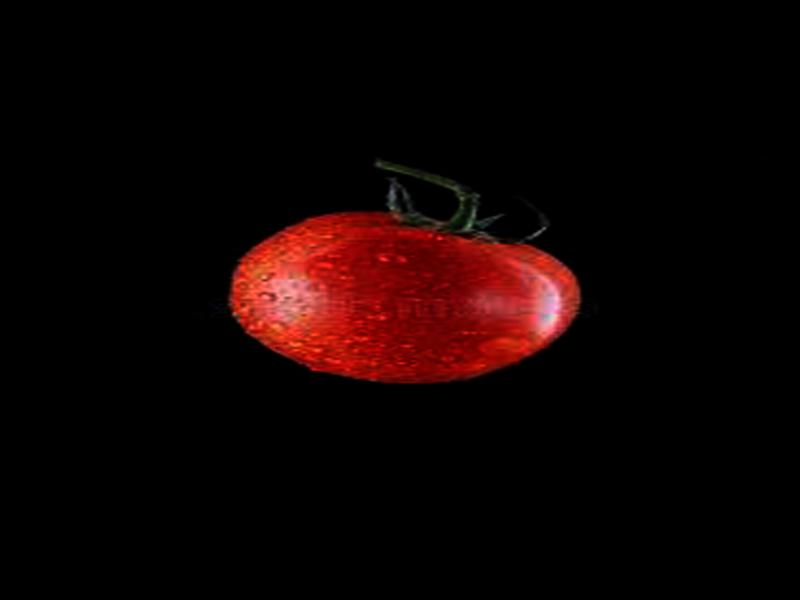Tomato: (226, 209, 580, 384)
